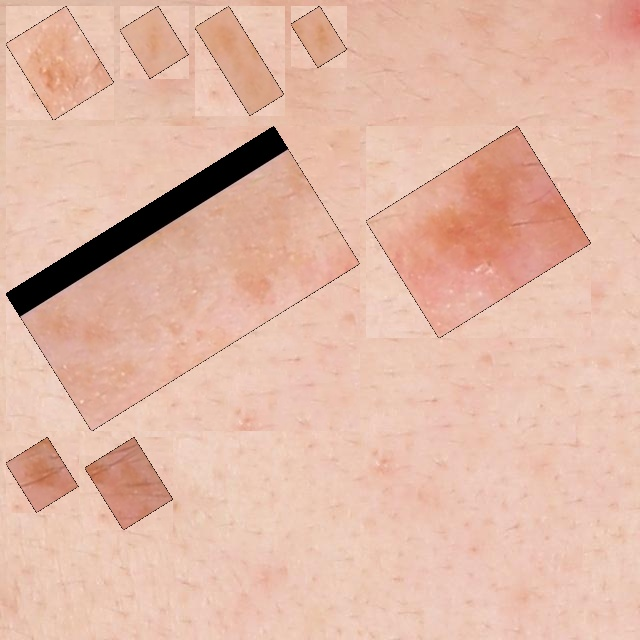melasma: (17, 137, 349, 420), (377, 137, 580, 327), (17, 17, 103, 109), (206, 17, 273, 104), (96, 448, 162, 519), (17, 448, 67, 501), (131, 17, 177, 67), (302, 17, 336, 56)
